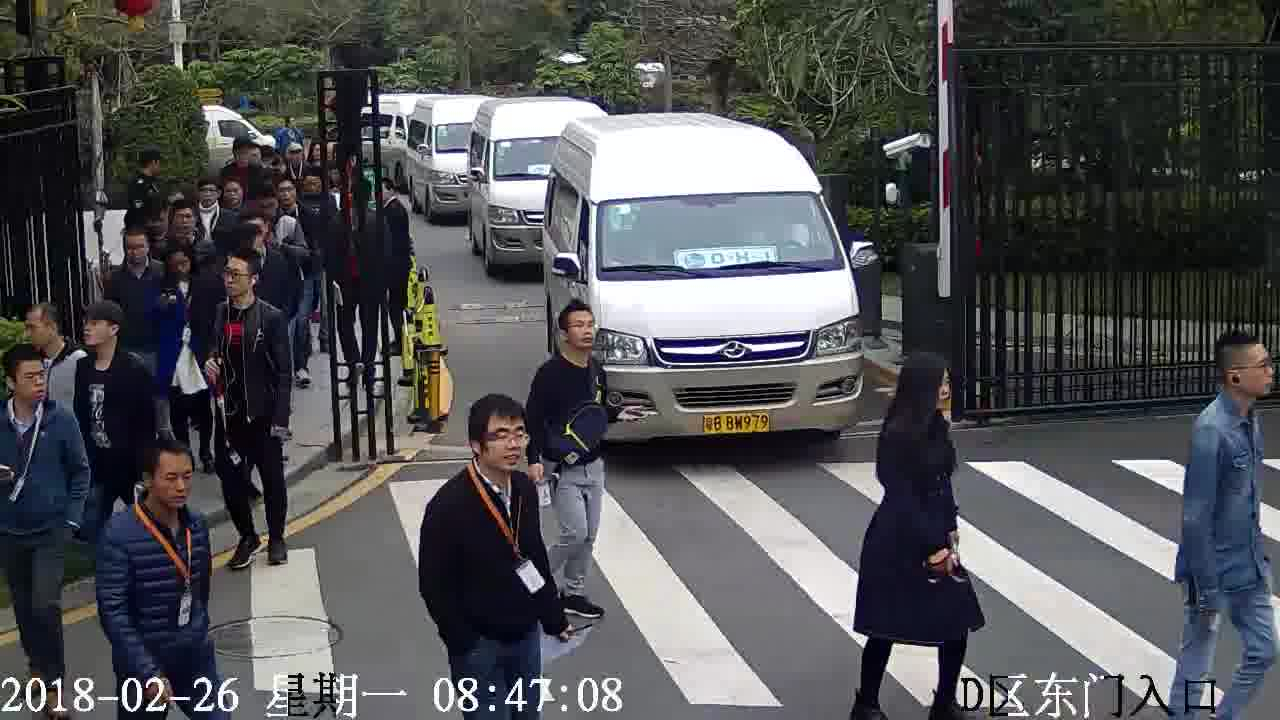face: (472, 412, 531, 471), (147, 451, 202, 506), (1227, 344, 1280, 400), (560, 307, 602, 349), (14, 360, 51, 406), (19, 309, 55, 351), (221, 258, 256, 299), (79, 314, 113, 350)
person: (425, 391, 538, 528), (106, 442, 206, 547), (1190, 333, 1275, 456), (879, 350, 963, 463), (67, 298, 151, 391), (1, 346, 81, 443), (529, 301, 608, 395), (211, 247, 285, 332), (16, 299, 88, 384), (107, 218, 164, 294), (156, 237, 219, 301), (161, 195, 213, 259), (246, 184, 297, 240), (217, 134, 272, 184), (294, 160, 341, 217), (376, 172, 411, 223), (130, 145, 165, 194), (215, 173, 251, 220), (277, 177, 312, 225), (187, 175, 220, 222), (274, 118, 309, 144)
